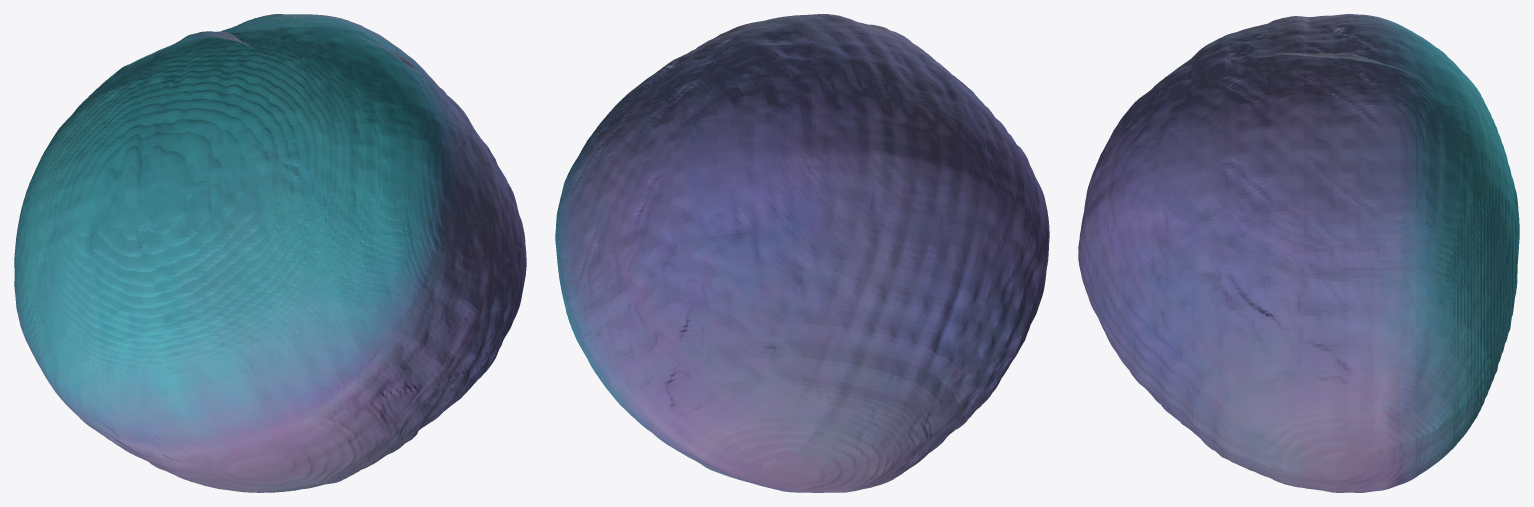
The picture shows the model from 3 angles, left to right: view 1: azimuth 30°, elevation 25°; view 2: azimuth 150°, elevation 25°; view 3: azimuth 270°, elevation 25°; orthographic projection. The views are drawn at different scales.
Visible parts, largest first — view 1: geometry_0; view 2: geometry_0; view 3: geometry_0.
Boxes of the visible parts, bbox=[...] form: geometry_0: bbox=[14, 14, 526, 492]; geometry_0: bbox=[555, 14, 1049, 492]; geometry_0: bbox=[1078, 14, 1519, 492].
Bounding box in the file's own units: 1.6 × 1.59 × 1.48.
